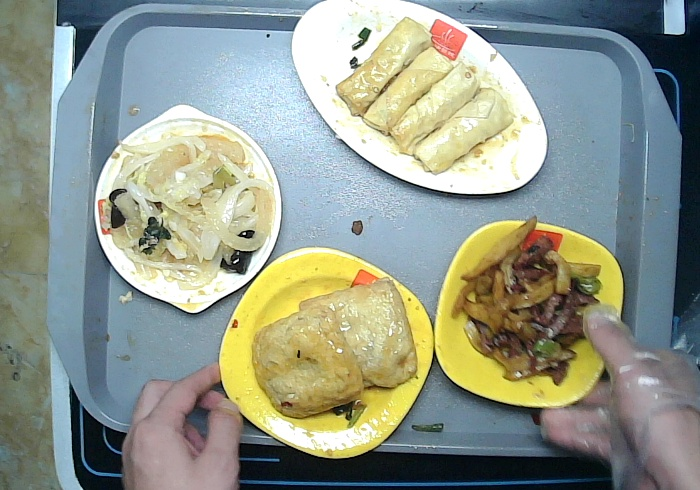SHKJ-Bao_Yu_Pan: (94, 103, 282, 312)
SHKJ-Huang_Se_Cai_Die: (435, 220, 622, 408)
SHKJ-Huang_Se_Si_Fang_Cai_Die: (218, 247, 435, 457)
SHKJ-Yu_Pan: (290, 1, 547, 196)
